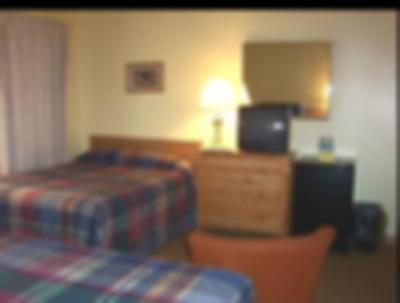Bote de Basura: (352, 206, 385, 253)
Electrodomestico: (295, 163, 353, 226)
